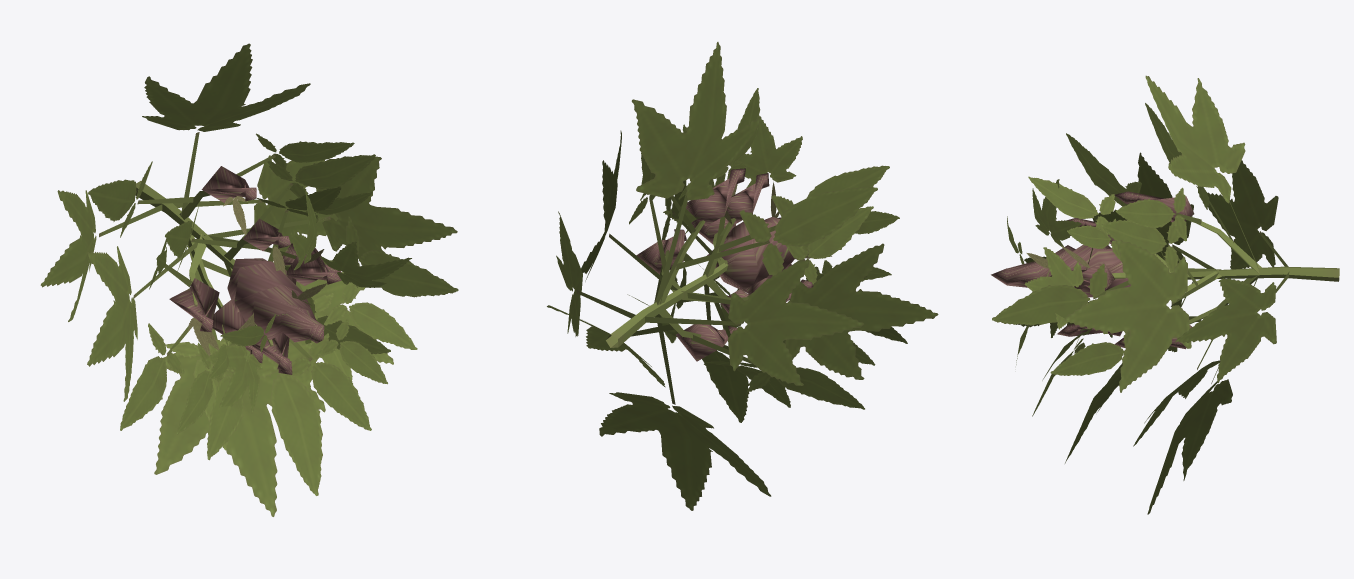
File: p_purple_auto_flowering_c1_cards.obj
The picture shows the model from 3 angles, left to right: view 1: azimuth 30°, elevation 25°; view 2: azimuth 150°, elevation 25°; view 3: azimuth 270°, elevation 25°; orthographic projection. The views are drawn at different scales.
Bounding box in the file's own units: 1.15 × 1.44 × 0.944.
1 material, 1 textured.
